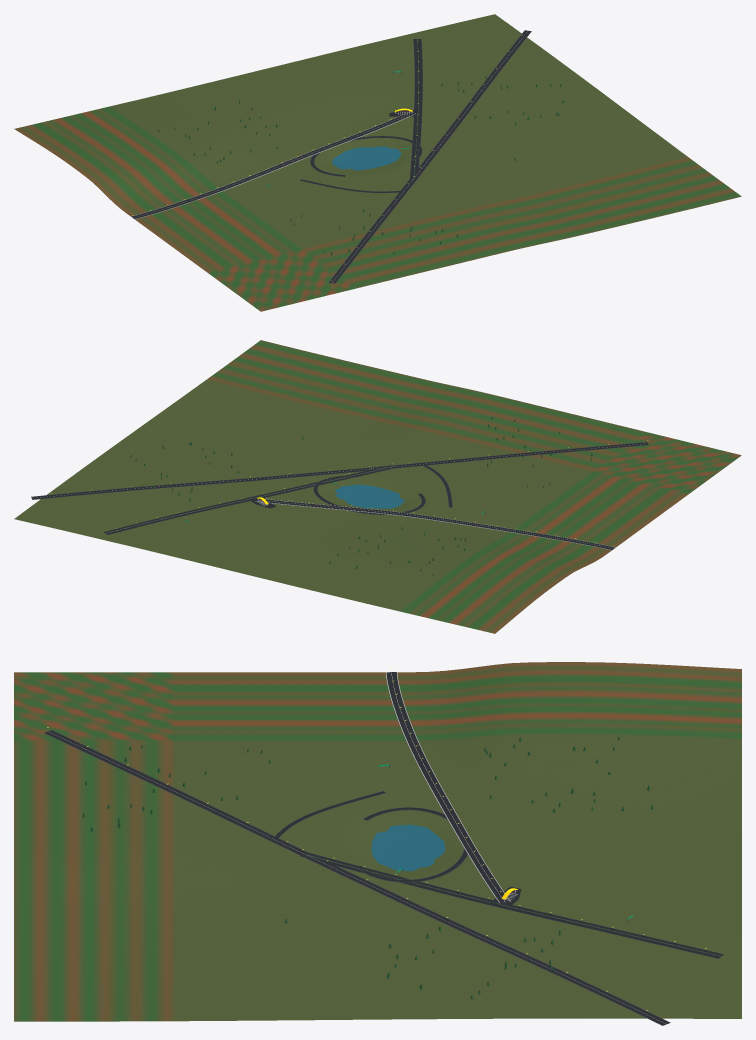
File: ring3_w1_lien_khuong_expressway_interchange.glb
3 renders of one model, top to bottom at view 1: azimuth 30°, elevation 25°; view 2: azimuth 150°, elevation 25°; view 3: azimuth 270°, elevation 25°, orthographic. The views are drawn at different scales.
Parts seen in each view (by area): view 1: Terrain_LienKhuong_Interchange, Expressway_QL20_And_Ramps_Asphalt, Expressway_Roadbed_Shoulders, Water_Interchange_Gateway_Pond, Trumpet_Overpass_Viaduct_Concrete; view 2: Terrain_LienKhuong_Interchange, Expressway_QL20_And_Ramps_Asphalt, Expressway_Roadbed_Shoulders, Water_Interchange_Gateway_Pond, Trumpet_Overpass_Viaduct_Concrete; view 3: Terrain_LienKhuong_Interchange, Expressway_QL20_And_Ramps_Asphalt, Expressway_Roadbed_Shoulders, Water_Interchange_Gateway_Pond, Trumpet_Overpass_Viaduct_Concrete, Vegetation_Pine_Canopies_Interchange.
Boxes of the visible parts, x1,y1,x2,y2 form: Terrain_LienKhuong_Interchange: (14, 14, 741, 311); Expressway_QL20_And_Ramps_Asphalt: (131, 30, 530, 283); Expressway_Roadbed_Shoulders: (300, 30, 531, 283); Water_Interchange_Gateway_Pond: (332, 146, 401, 170); Trumpet_Overpass_Viaduct_Concrete: (131, 111, 415, 219); Terrain_LienKhuong_Interchange: (14, 340, 741, 633); Expressway_QL20_And_Ramps_Asphalt: (31, 442, 648, 549); Expressway_Roadbed_Shoulders: (31, 442, 648, 534); Water_Interchange_Gateway_Pond: (335, 484, 404, 508); Trumpet_Overpass_Viaduct_Concrete: (107, 466, 615, 550); Terrain_LienKhuong_Interchange: (14, 662, 741, 1021); Expressway_QL20_And_Ramps_Asphalt: (45, 672, 723, 1025); Expressway_Roadbed_Shoulders: (44, 730, 723, 1025); Water_Interchange_Gateway_Pond: (371, 824, 445, 871); Trumpet_Overpass_Viaduct_Concrete: (304, 672, 720, 956); Vegetation_Pine_Canopies_Interchange: (82, 736, 653, 999).
Bounding box in the file's own units: 1839 × 38.58 × 1600.
14 materials, 1 textured.
